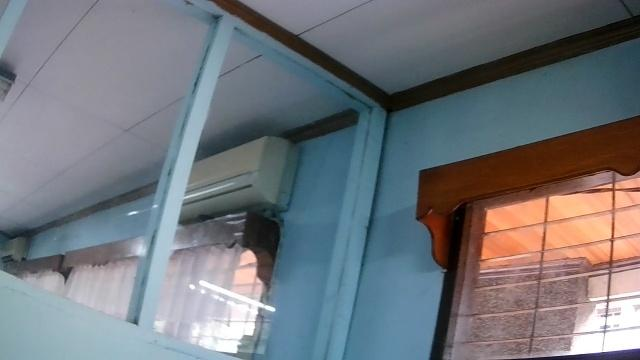AC: (175, 135, 301, 225)
